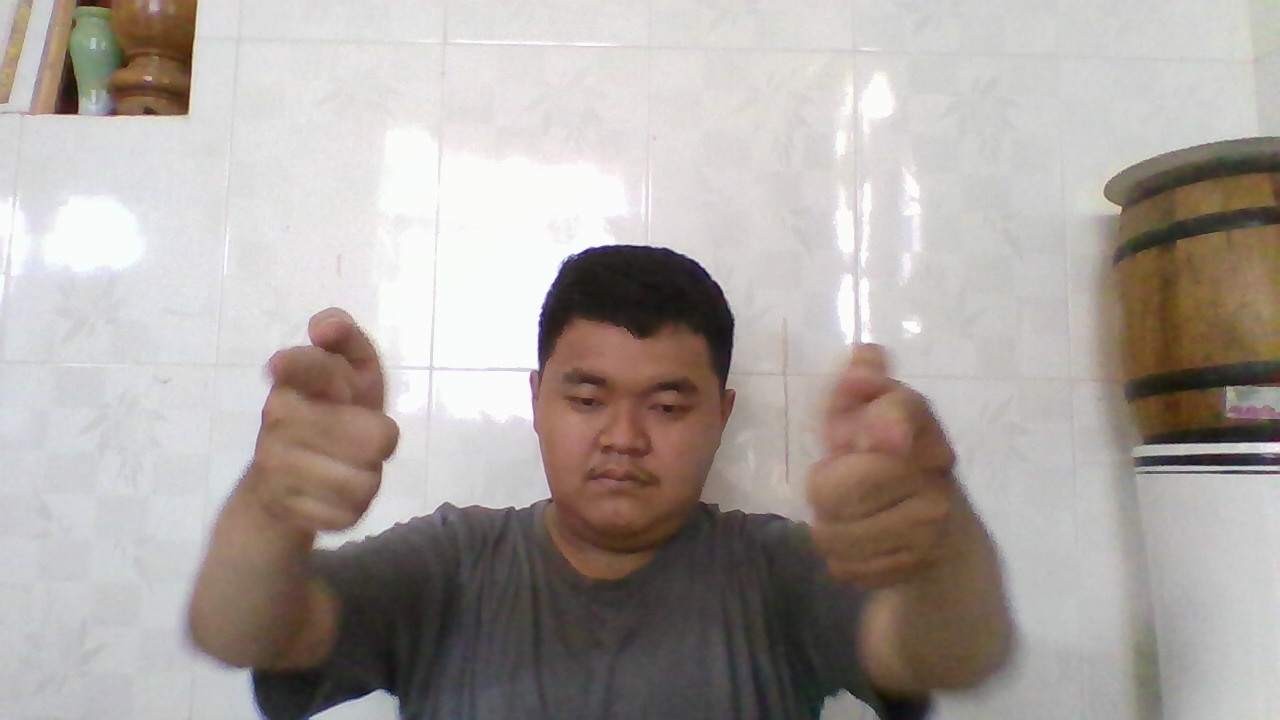G: (255, 312, 393, 533), (818, 368, 948, 587)
